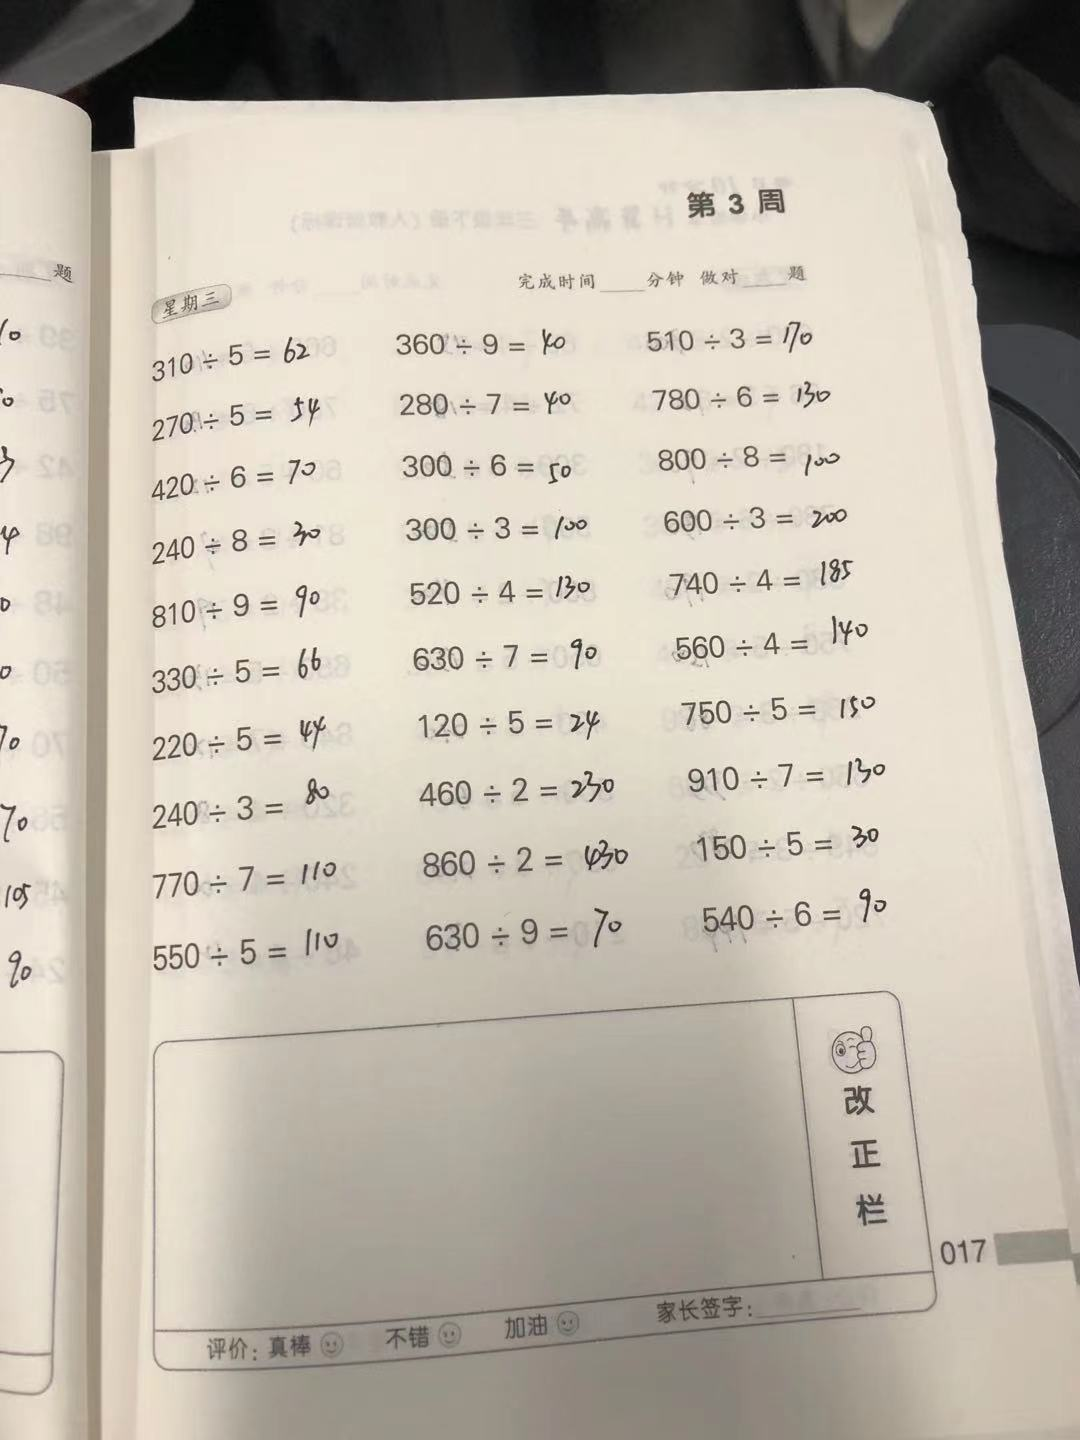equation: (667, 742, 916, 804), (687, 882, 908, 950), (411, 899, 648, 962), (145, 776, 370, 841), (405, 836, 650, 888), (147, 850, 370, 907), (147, 920, 371, 975), (391, 441, 614, 495), (680, 818, 911, 870), (393, 507, 617, 559), (141, 395, 341, 452), (664, 554, 885, 607), (402, 765, 636, 813), (151, 712, 356, 766), (147, 579, 341, 636), (147, 644, 337, 702), (405, 696, 638, 742), (147, 515, 345, 568), (639, 378, 854, 425), (394, 636, 617, 681), (651, 442, 871, 488), (646, 501, 877, 544), (391, 568, 614, 612), (145, 455, 331, 507), (663, 618, 887, 661), (141, 338, 341, 386), (387, 381, 590, 427), (670, 685, 891, 727), (646, 317, 833, 361), (396, 322, 581, 365)
